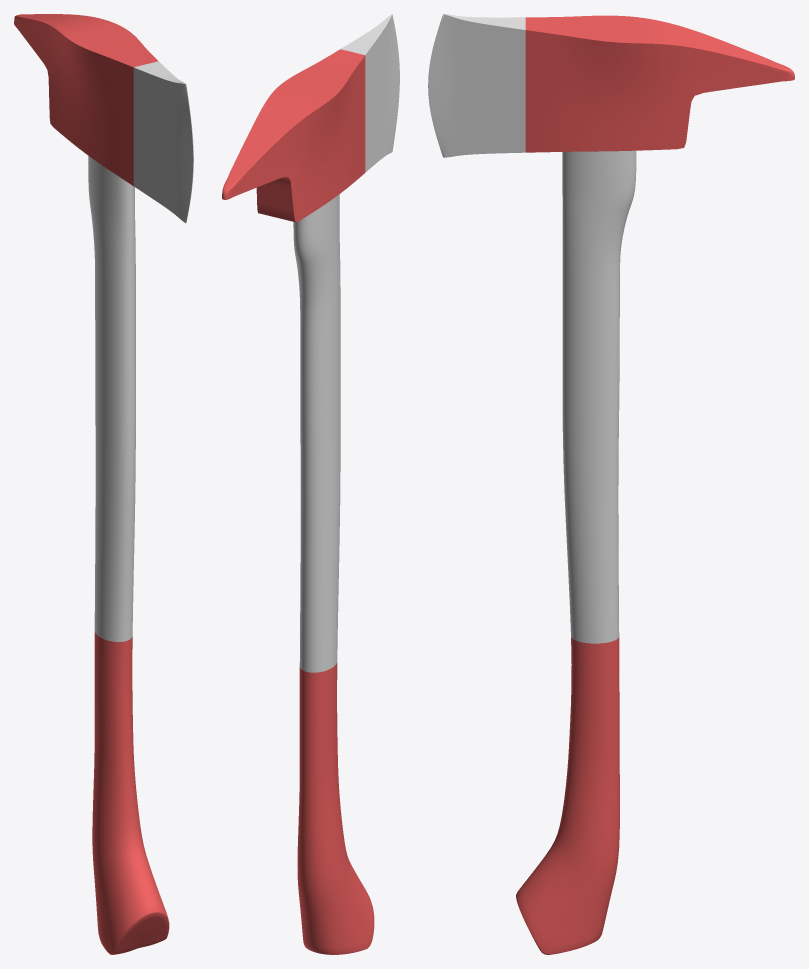
The model's file is fire fighters axe.fbx.
The picture shows the model from 3 angles, left to right: view 1: azimuth 30°, elevation 25°; view 2: azimuth 150°, elevation 25°; view 3: azimuth 270°, elevation 25°; orthographic projection. The views are drawn at different scales.
Visible parts, largest first — view 1: AxeHandle, AxeHead; view 2: AxeHandle, AxeHead; view 3: AxeHandle, AxeHead.
Boxes of the visible parts, x1,y1,x2,y2 form: AxeHandle: (88, 156, 169, 954); AxeHead: (14, 14, 193, 222); AxeHandle: (293, 194, 374, 954); AxeHead: (222, 14, 399, 222); AxeHandle: (516, 150, 636, 954); AxeHead: (428, 14, 794, 157).
Size of the model in its own units: 69.51 by 1076 by 385.
